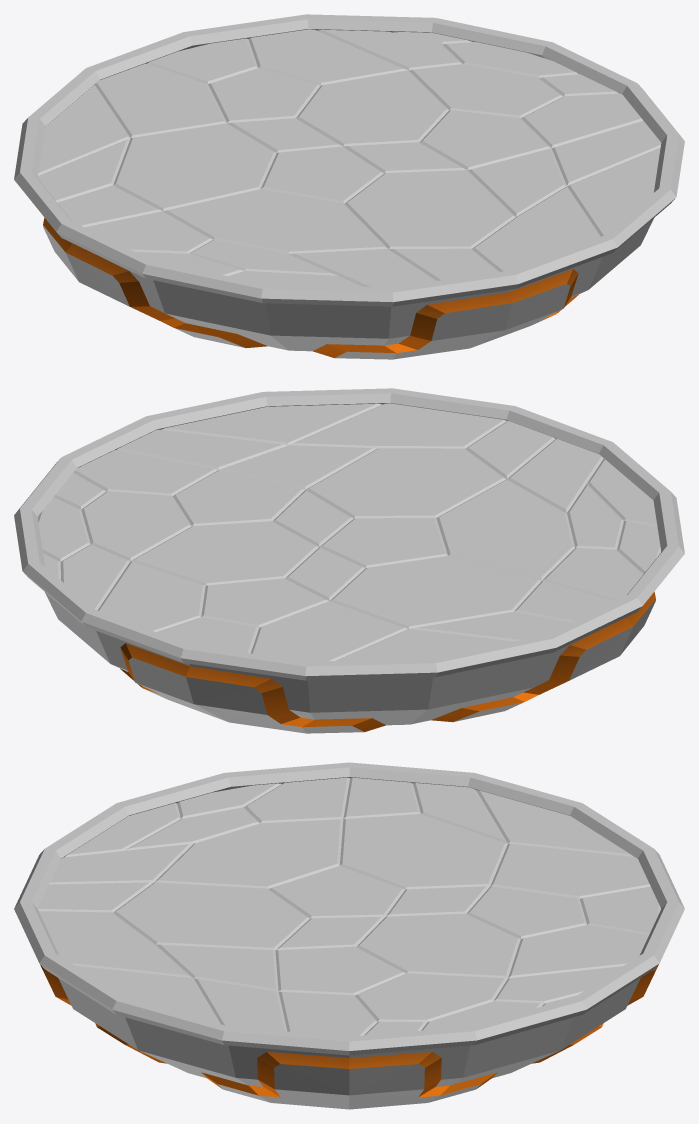
Rendered from Jungle_house_base.fbx.
3 views of the same model, one above another, from view 1: azimuth 30°, elevation 25°; view 2: azimuth 150°, elevation 25°; view 3: azimuth 270°, elevation 25° (orthographic).
Visible parts, largest first — view 1: Jungle_house_base; view 2: Jungle_house_base; view 3: Jungle_house_base.
Boxes of the visible parts, x1,y1,x2,y2 form: Jungle_house_base: [14, 14, 684, 359]; Jungle_house_base: [14, 388, 684, 733]; Jungle_house_base: [14, 762, 684, 1109].
Bounding box in the file's own units: 12.13 × 2.66 × 12.1.
